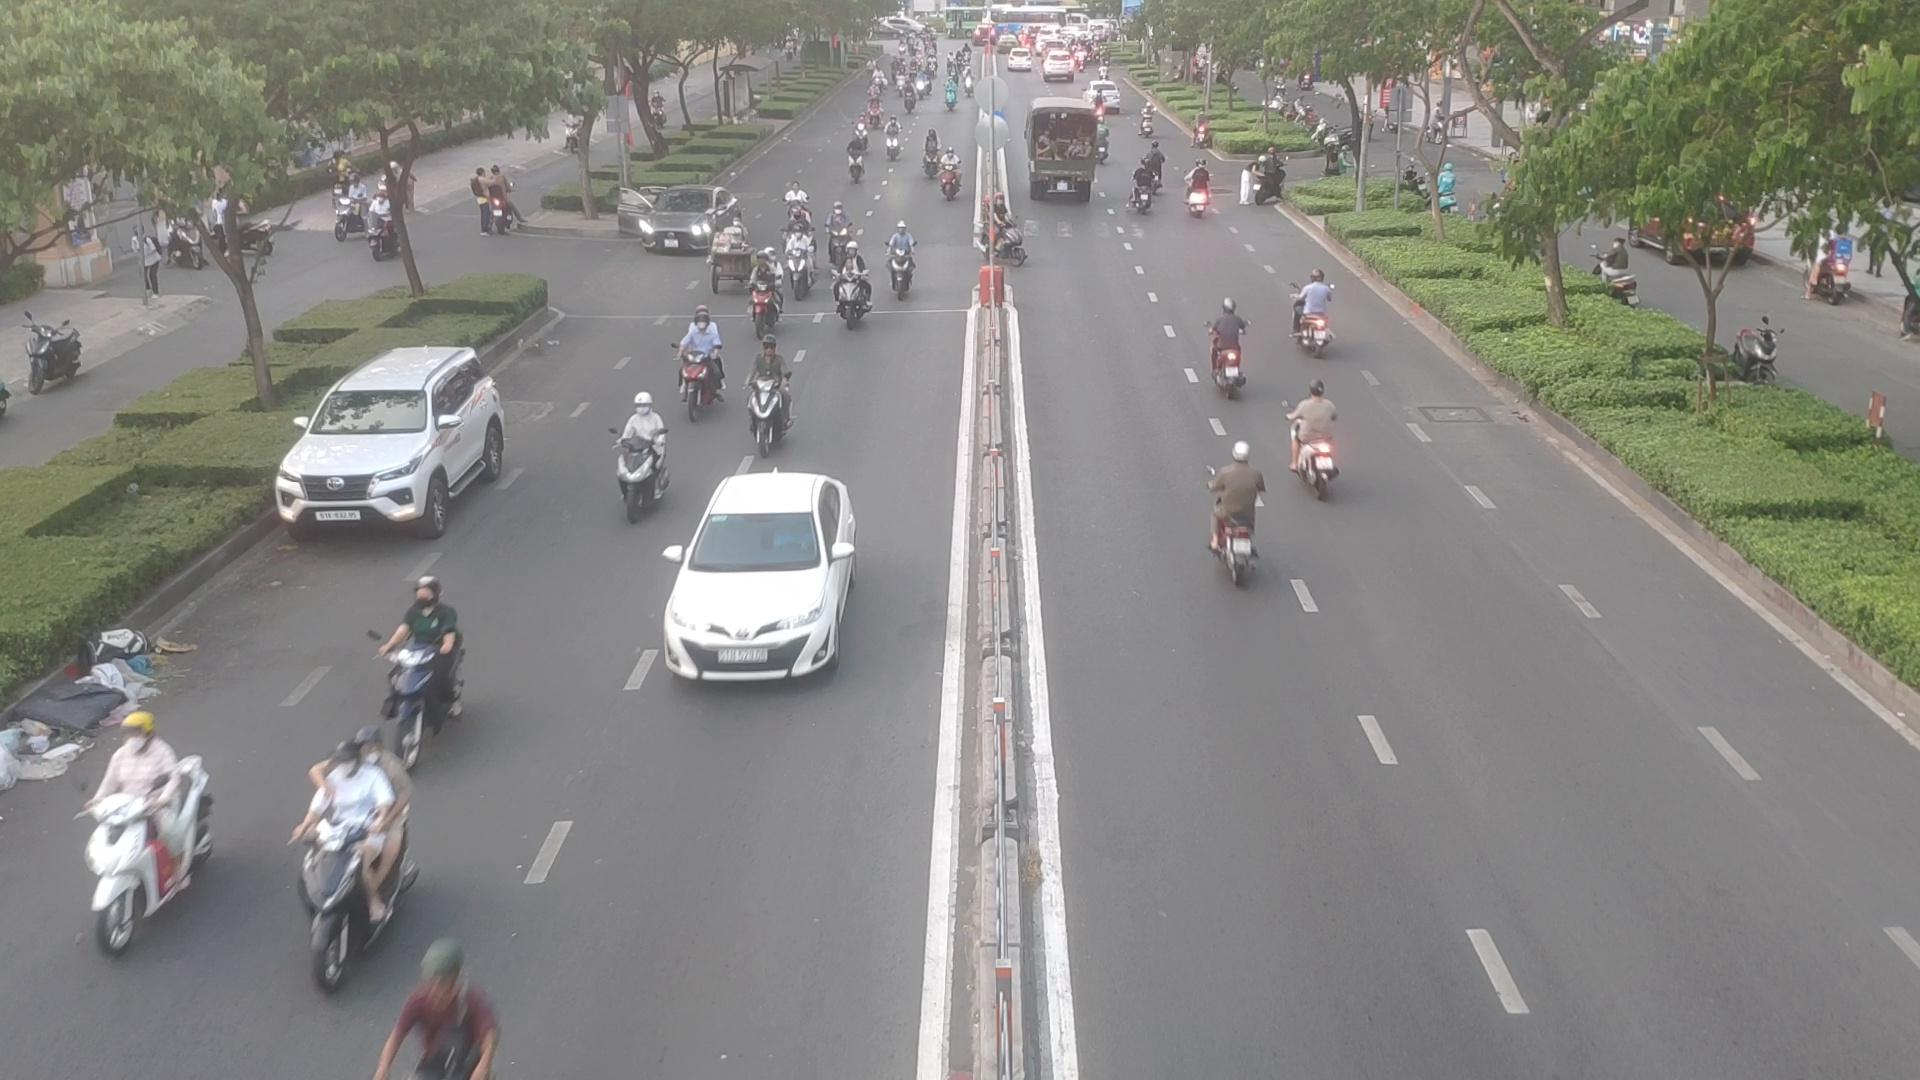car: (642, 475, 860, 684), (278, 344, 521, 530), (615, 191, 737, 258)
motorbike: (66, 713, 218, 945), (301, 742, 429, 965), (351, 959, 504, 1080), (378, 592, 472, 735), (1207, 444, 1275, 574), (1288, 385, 1357, 495), (609, 400, 671, 506), (741, 340, 796, 436), (676, 316, 732, 411), (1207, 305, 1255, 394), (1286, 273, 1338, 349), (833, 266, 880, 332), (884, 224, 920, 298), (825, 204, 862, 258), (1130, 164, 1163, 215)
